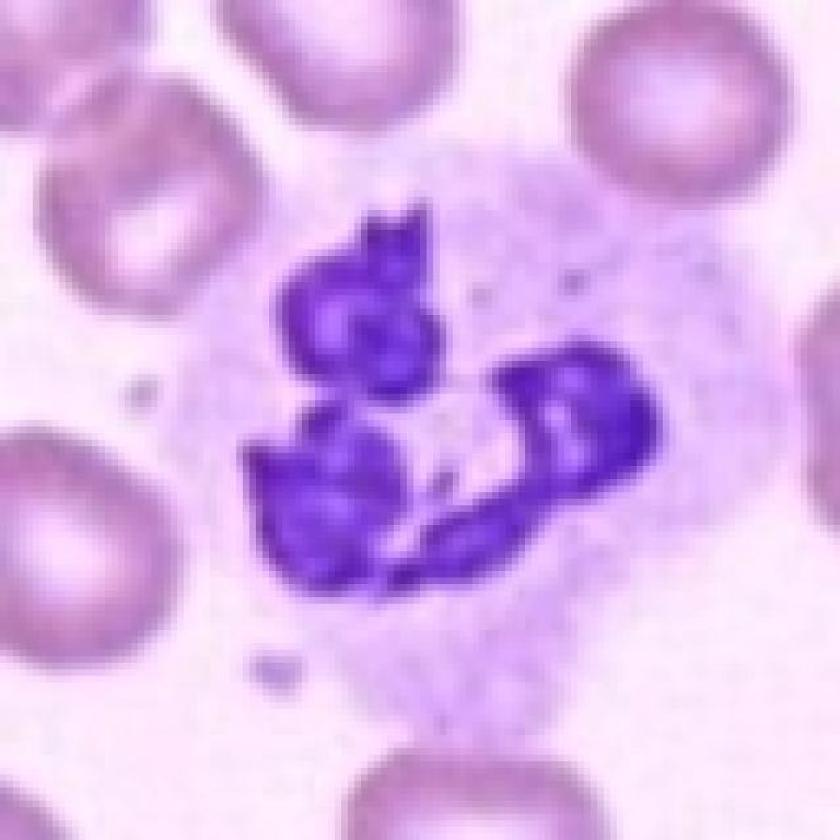neutrophil: (161, 137, 794, 757)
